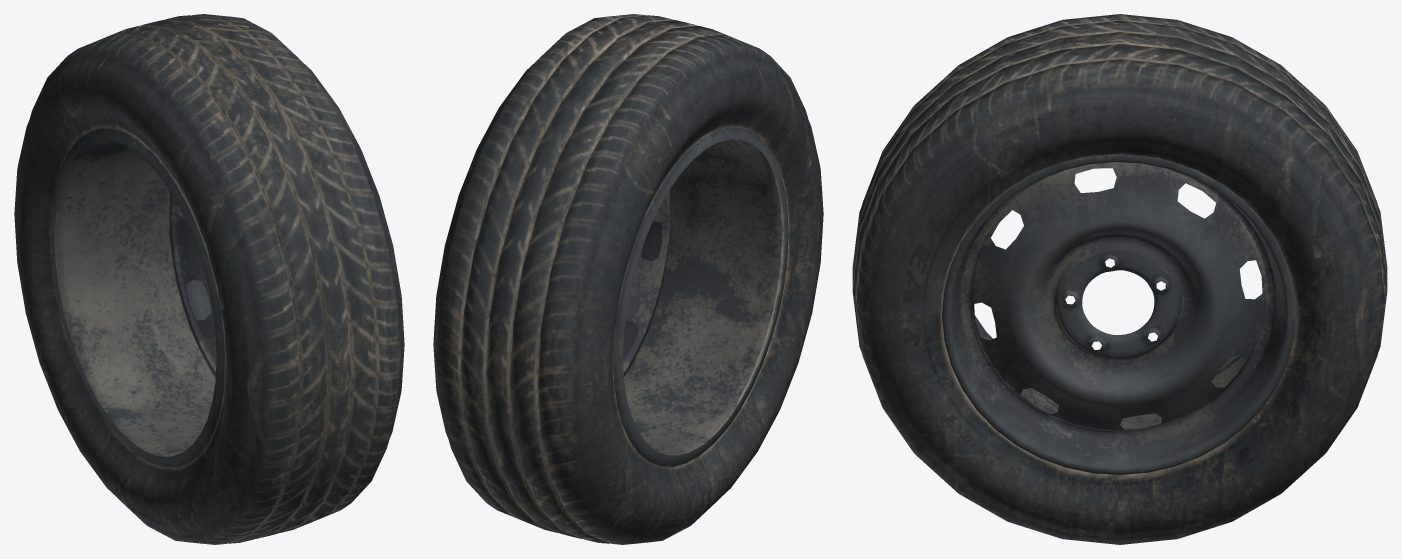
3 renders of one model, left to right at view 1: azimuth 30°, elevation 25°; view 2: azimuth 150°, elevation 25°; view 3: azimuth 270°, elevation 25°, orthographic.
Parts seen in each view (by area): view 1: tire_low, steelRim_low; view 2: tire_low, steelRim_low; view 3: tire_low, steelRim_low.
Boxes of the visible parts, box(x1,y1,x2,y2) form: tire_low: box(14, 14, 404, 544); steelRim_low: box(51, 127, 226, 468); tire_low: box(433, 14, 823, 544); steelRim_low: box(612, 126, 788, 467); tire_low: box(852, 14, 1387, 544); steelRim_low: box(942, 154, 1296, 474).
Size of the model in its own units: 101 by 273 by 273.
Materials: 1 (1 with a texture image).
